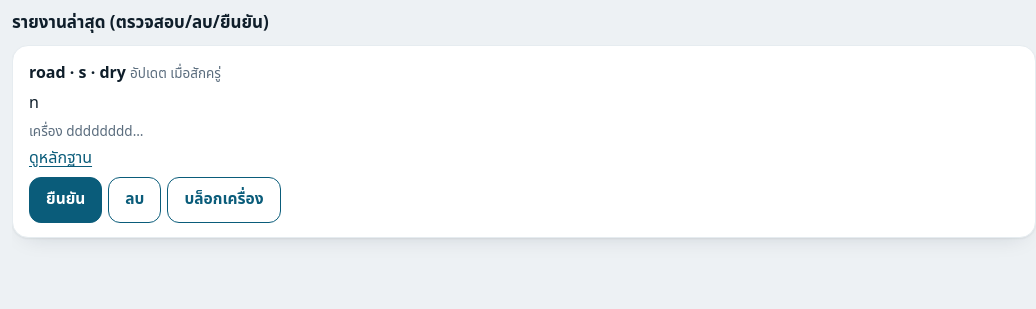
Test: does not touch storage when the delete RPC fails
The image size is (1036, 309).
Click the button "ลบ".
click(135, 200)  # box 108,177 -> 161,223
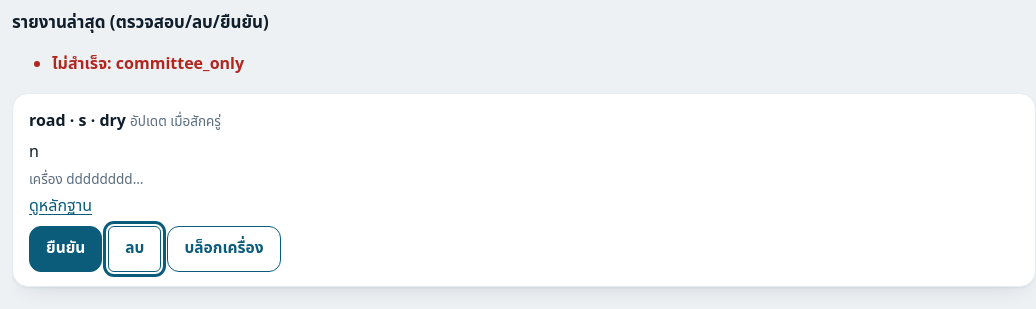
Expected: the message shows "committee_only", 52,52 -> 244,76
